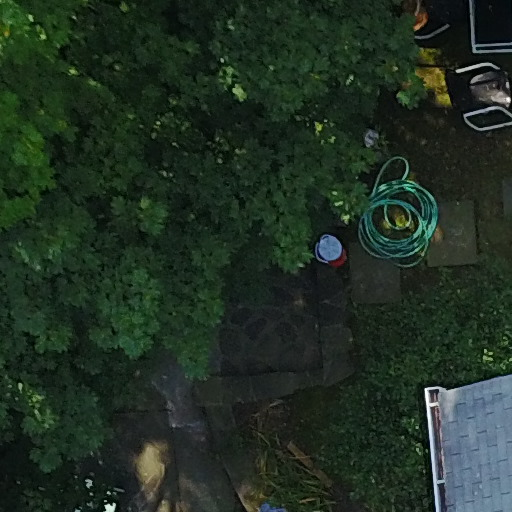container: (305, 228, 351, 271)
